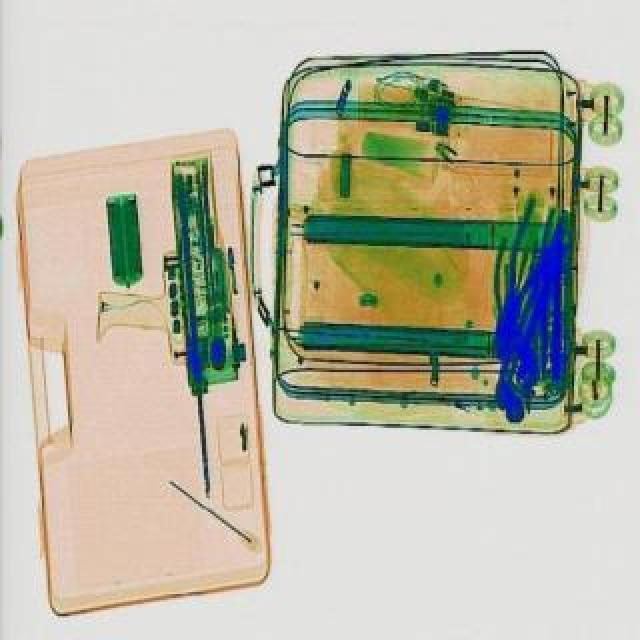wrench: (486, 196, 562, 336), (478, 234, 540, 354)
